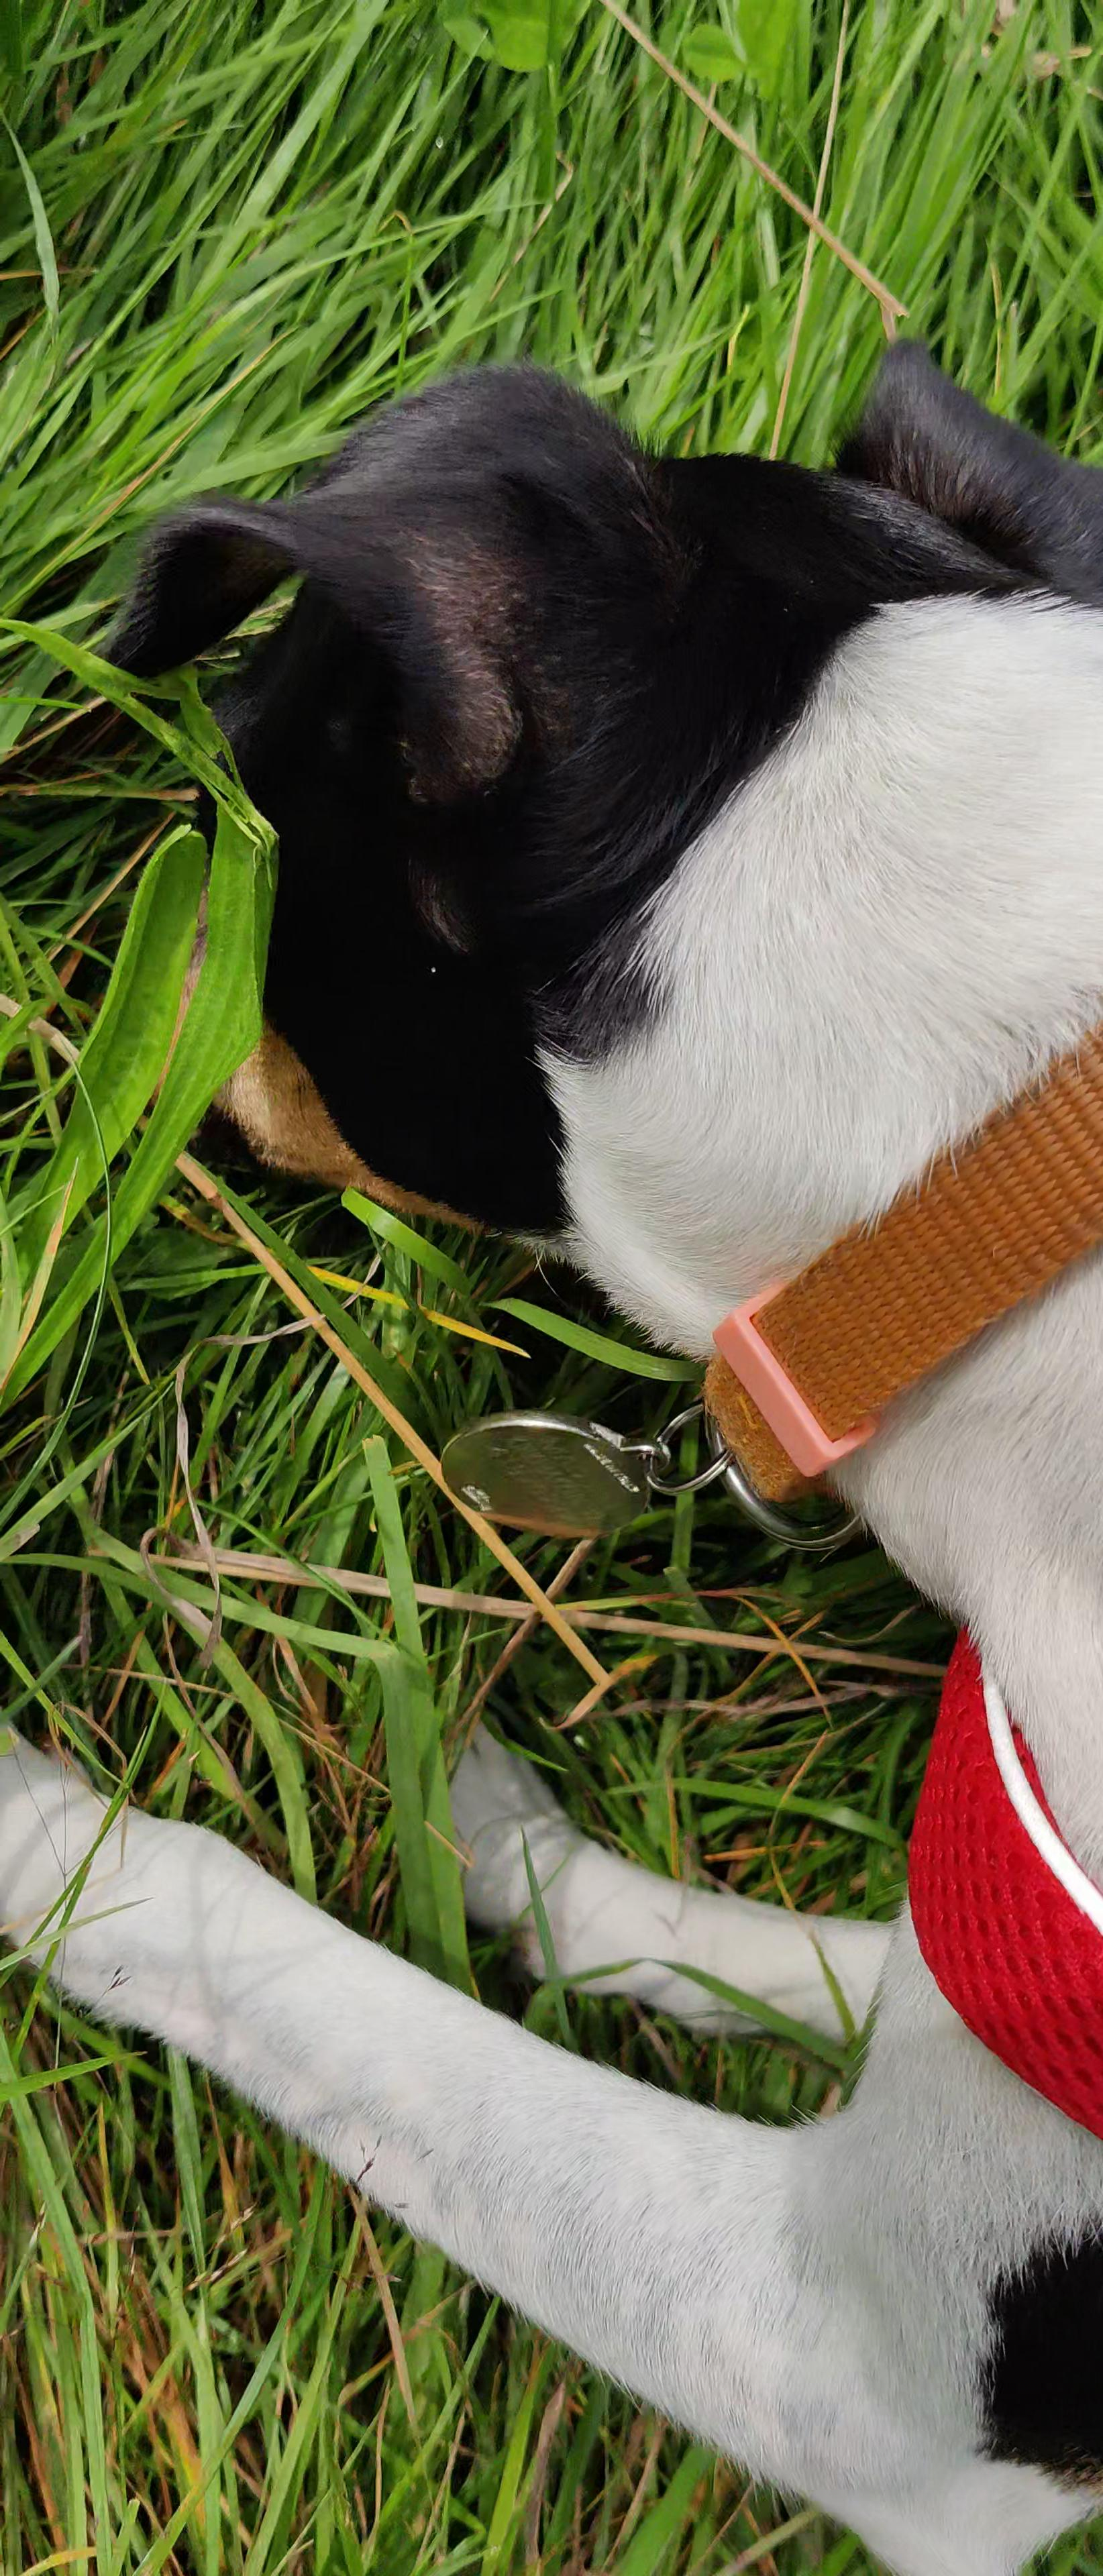Dog: (0, 310, 1103, 2576)
